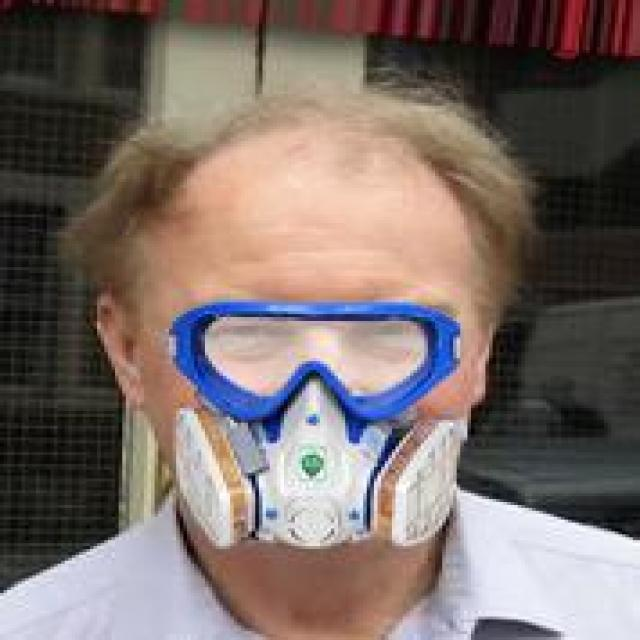mask: (64, 79, 528, 602)
